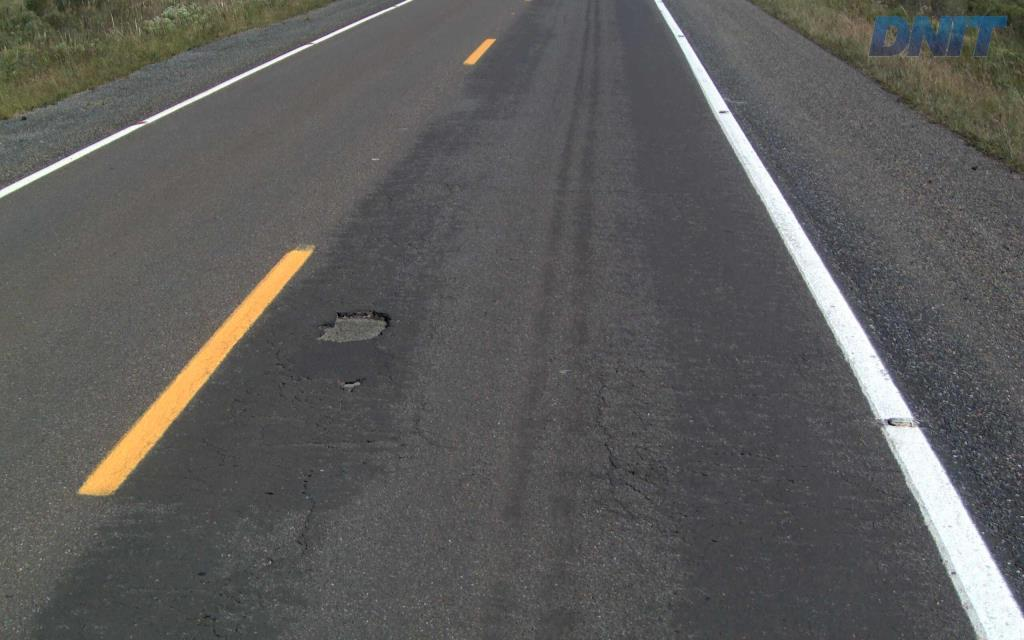pothole: (308, 303, 391, 347), (334, 375, 366, 392)
